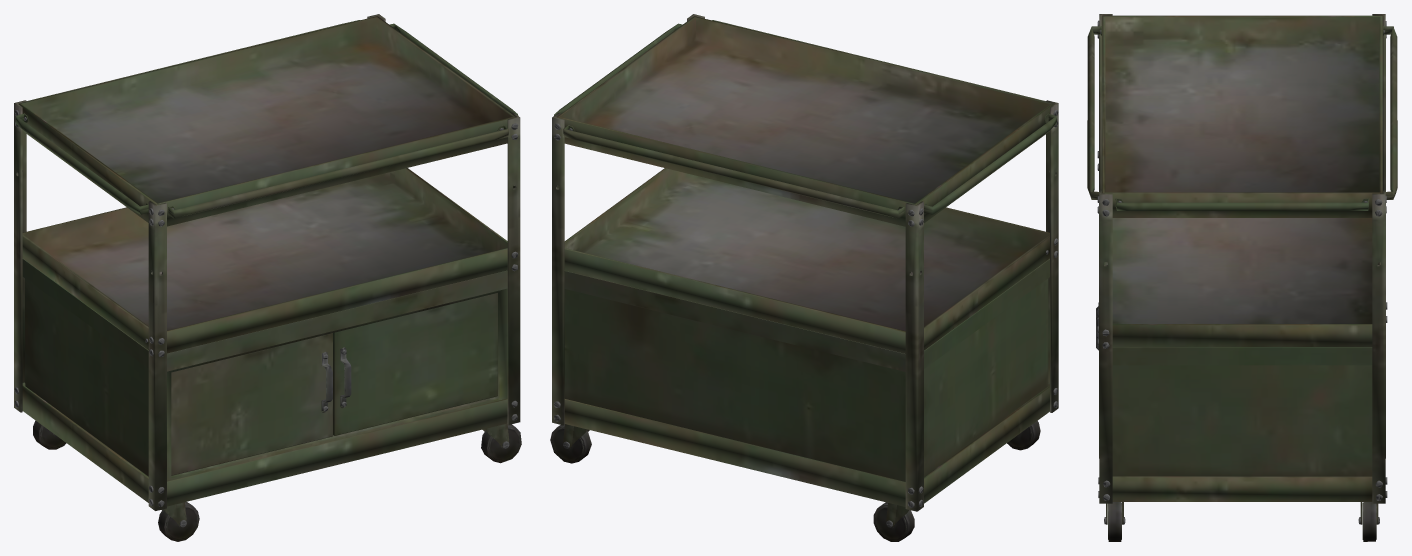
File: industrial_storage_cart.glb
The picture shows the model from 3 angles, left to right: view 1: azimuth 30°, elevation 25°; view 2: azimuth 150°, elevation 25°; view 3: azimuth 270°, elevation 25°; orthographic projection.
Parts seen in each view (by area): view 1: industrial_storage_cart; view 2: industrial_storage_cart; view 3: industrial_storage_cart.
Boxes of the visible parts, box(x1,y1,x2,y2) form: industrial_storage_cart: box(14, 14, 521, 541); industrial_storage_cart: box(550, 14, 1058, 541); industrial_storage_cart: box(1087, 14, 1397, 541).
Size of the model in its own units: 1.6 by 1.38 by 1.1.
Materials: 1 (1 with a texture image).
